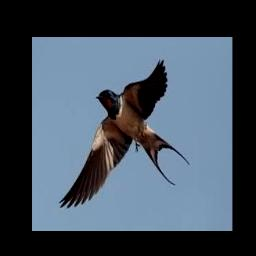Swallow: (59, 58, 189, 208)
